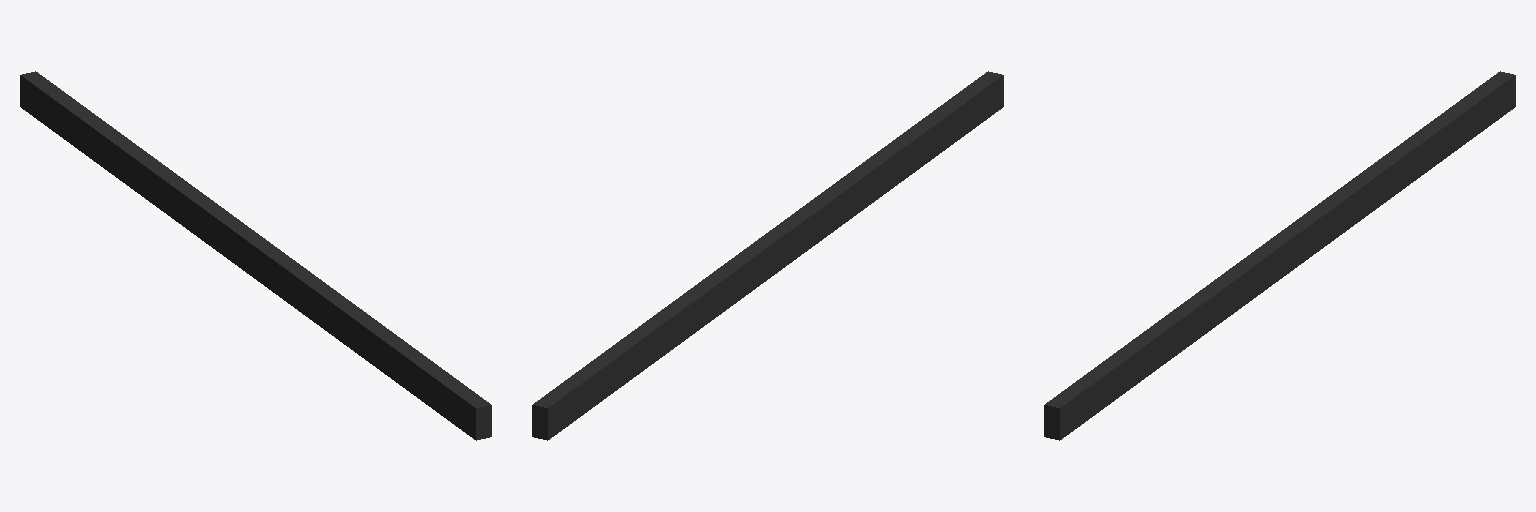
robot.urdf — wall:
<robot name="wall">
  <link name="baseLink">
   
    <inertial>
      <origin rpy="0 0 0" xyz="0 0 0" />
       <mass value="10" />
       <inertia ixx="0" ixy="0" ixz="0" iyy="0" iyz="0" izz="0" />
    </inertial>
    <visual>
      <origin rpy="0 0 0" xyz="0 0 0" />
      <geometry>
			  <box size="0.1 5.1 0.2" />
      </geometry>
       <material name="grey">
        <color rgba="0.24 0.24 0.24 1" />
      </material>
    </visual>
    <collision>
      <origin rpy="0 0 0" xyz="0 0 0" />
      <geometry>
	 	      <box size="0.1 5.1 0.2" />
      </geometry>
    </collision>
  </link>
</robot>

--- What the picture shows (computed from the rendered views, not written in the file) ---
The picture shows the robot from 3 angles, left to right: view 1: azimuth 30°, elevation 25°; view 2: azimuth 150°, elevation 25°; view 3: azimuth 330°, elevation 25°; orthographic projection.
Robot: wall — 1 links, 0 joints (none); root link baseLink; default pose: every joint at zero.
Visible links, largest first — view 1: baseLink; view 2: baseLink; view 3: baseLink.
Link boxes in pixels (x1=…): baseLink: x1=20, y1=71, x2=491, y2=440; baseLink: x1=532, y1=71, x2=1003, y2=440; baseLink: x1=1044, y1=71, x2=1515, y2=440.
Size in the robot's own frame: 0.1 by 5.1 by 0.2 metres.
Geometry: primitives only (box / cylinder / sphere), no mesh files.
